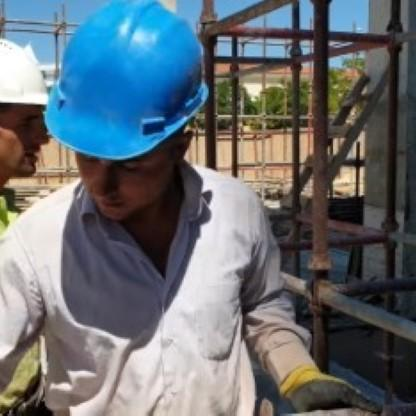helmet: (38, 16, 211, 238)
